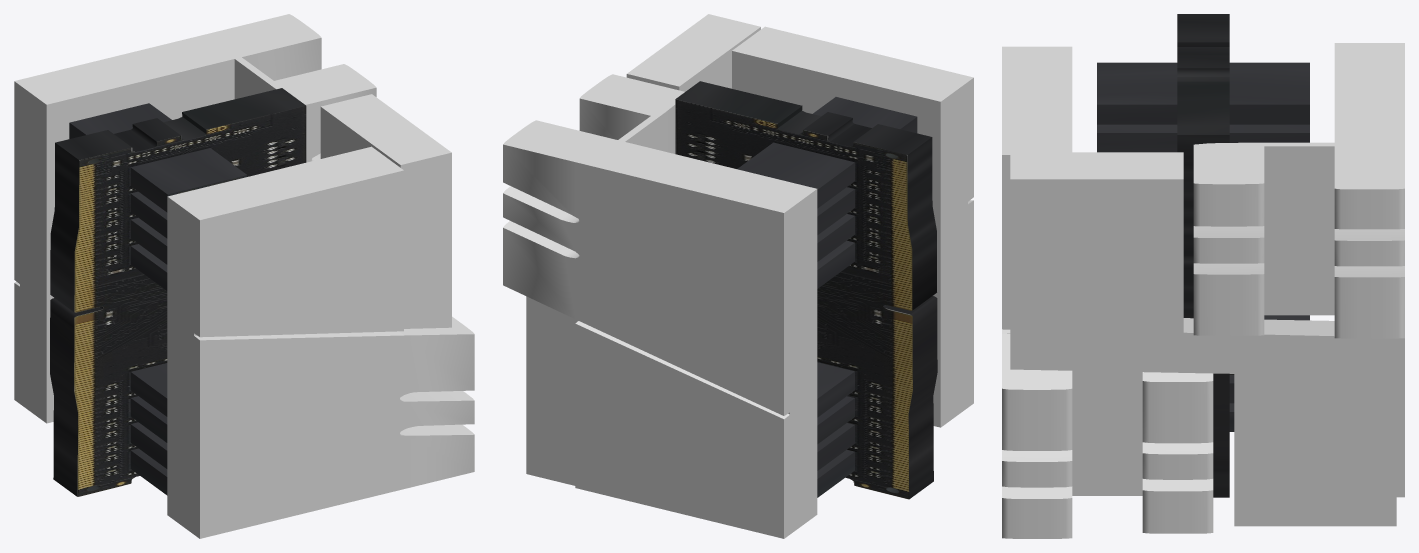
The model's file is Memory.fbx.
3 renders of one model, left to right at view 1: azimuth 30°, elevation 25°; view 2: azimuth 150°, elevation 25°; view 3: azimuth 270°, elevation 25°, orthographic. The views are drawn at different scales.
Visible parts, largest first — view 1: Memory; view 2: Memory; view 3: Memory.
Part boxes in pixels (box(x1,y1,x2,y2)): Memory: box(14, 14, 474, 538); Memory: box(503, 14, 973, 538); Memory: box(1002, 14, 1404, 538).
Size of the model in its own units: 100 by 100 by 100.
